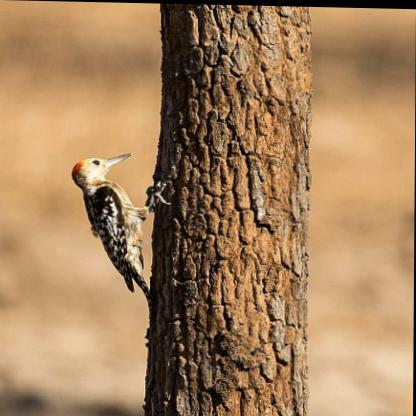Burung: (72, 150, 173, 316)
